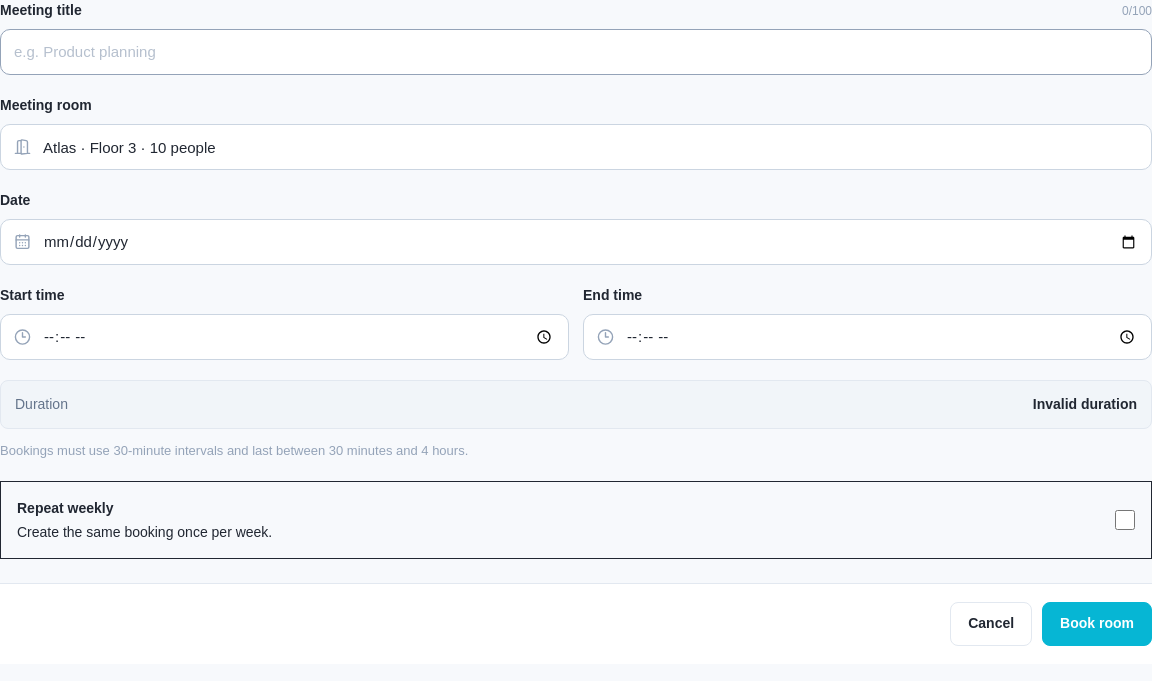
BookingForm validation › shows required field errors
Click the button "Book room".
click(1097, 624)  # box left=1042, top=602, right=1151, bottom=646
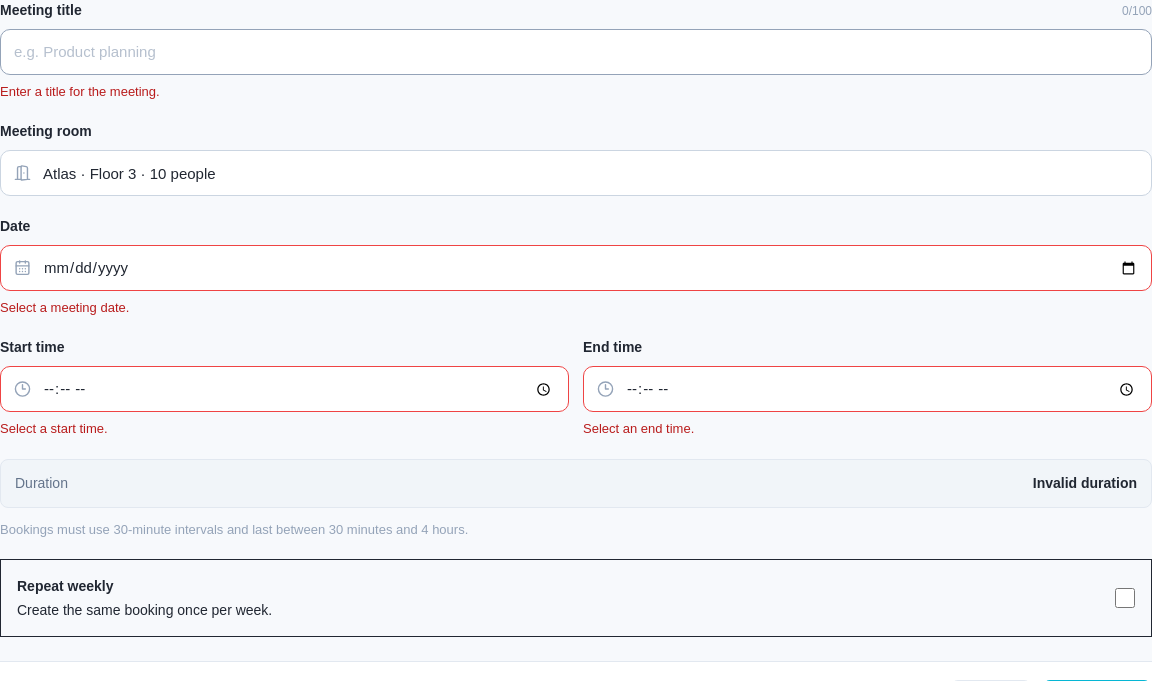
Now the text "Enter a title for the meeting." is shown, box left=0, top=84, right=160, bottom=99
Now the text "Select a meeting date." is shown, box left=0, top=300, right=129, bottom=315
Now the text "Select a start time." is shown, box left=0, top=421, right=108, bottom=436
